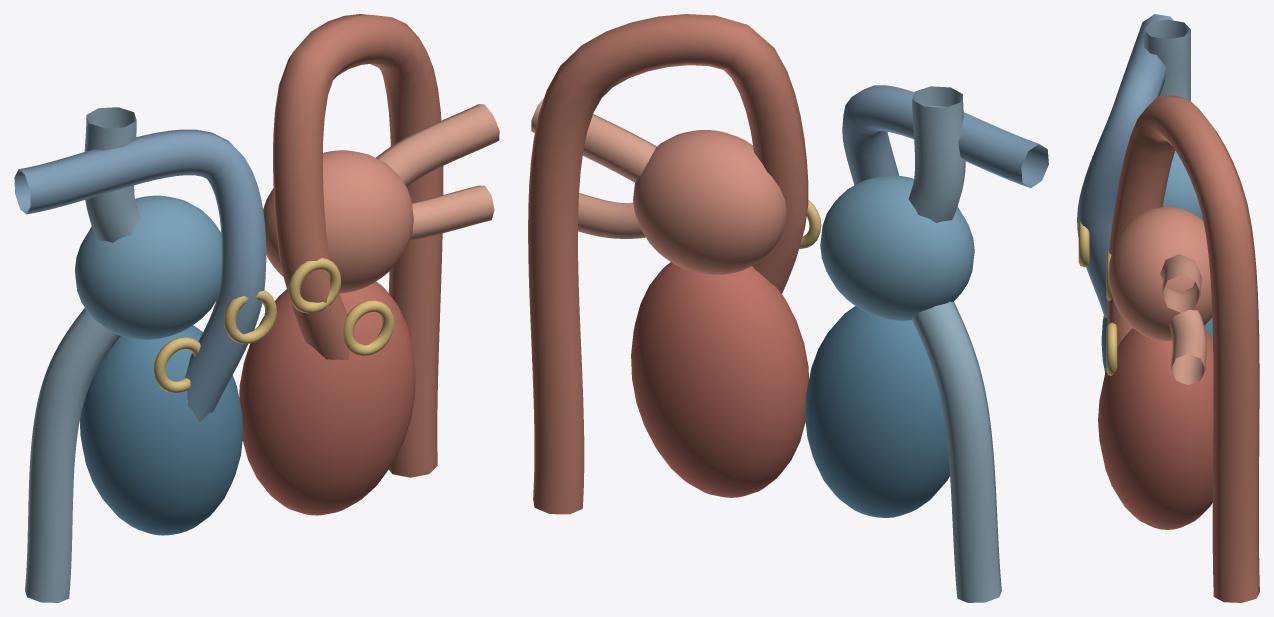
The model's file is heart.glb.
The picture shows the model from 3 angles, left to right: view 1: azimuth 30°, elevation 25°; view 2: azimuth 150°, elevation 25°; view 3: azimuth 270°, elevation 25°; orthographic projection. The views are drawn at different scales.
Parts seen in each view (by area): view 1: aorta-mesh-0, left-ventricle-mesh-0, right-ventricle-mesh-0, pulmonary-artery-mesh-0, right-atrium-mesh-0, vena-cava-mesh-1, left-atrium-mesh-0, pulmonary-veins-mesh-0, vena-cava-mesh-0, pulmonary-veins-mesh-1, valves-mesh-1, valves-mesh-3 (+2 smaller); view 2: aorta-mesh-0, left-ventricle-mesh-0, right-ventricle-mesh-0, left-atrium-mesh-0, right-atrium-mesh-0, vena-cava-mesh-1, pulmonary-artery-mesh-0, vena-cava-mesh-0, pulmonary-veins-mesh-0, pulmonary-veins-mesh-1; view 3: aorta-mesh-0, left-ventricle-mesh-0, left-atrium-mesh-0, pulmonary-artery-mesh-0, vena-cava-mesh-0, pulmonary-veins-mesh-1, pulmonary-veins-mesh-0, right-atrium-mesh-0, valves-mesh-1, valves-mesh-2, right-ventricle-mesh-0.
Boxes of the visible parts, box(x1,y1,x2,y2) form: aorta-mesh-0: box(273, 14, 443, 477); left-ventricle-mesh-0: box(239, 281, 415, 515); right-ventricle-mesh-0: box(80, 325, 243, 535); pulmonary-artery-mesh-0: box(14, 129, 266, 421); right-atrium-mesh-0: box(74, 195, 221, 339); vena-cava-mesh-1: box(25, 308, 120, 602); left-atrium-mesh-0: box(263, 150, 413, 293); pulmonary-veins-mesh-0: box(376, 104, 499, 186); vena-cava-mesh-0: box(84, 107, 140, 242); pulmonary-veins-mesh-1: box(409, 185, 494, 240); valves-mesh-1: box(343, 300, 394, 355); valves-mesh-3: box(288, 258, 341, 313); aorta-mesh-0: box(528, 14, 808, 514); left-ventricle-mesh-0: box(631, 262, 808, 497); right-ventricle-mesh-0: box(805, 306, 949, 517); left-atrium-mesh-0: box(633, 130, 786, 274); right-atrium-mesh-0: box(820, 175, 974, 320); vena-cava-mesh-1: box(911, 301, 1001, 602); pulmonary-artery-mesh-0: box(842, 85, 1048, 188); vena-cava-mesh-0: box(908, 86, 965, 222); pulmonary-veins-mesh-0: box(531, 98, 656, 182); pulmonary-veins-mesh-1: box(578, 193, 645, 238); aorta-mesh-0: box(1107, 95, 1259, 602); left-ventricle-mesh-0: box(1098, 328, 1213, 529); left-atrium-mesh-0: box(1108, 207, 1212, 340); pulmonary-artery-mesh-0: box(1077, 14, 1173, 317); vena-cava-mesh-0: box(1144, 19, 1190, 100); pulmonary-veins-mesh-1: box(1169, 310, 1207, 385); pulmonary-veins-mesh-0: box(1160, 254, 1201, 312); right-atrium-mesh-0: box(1163, 150, 1203, 220); valves-mesh-1: box(1106, 322, 1117, 375); valves-mesh-2: box(1078, 221, 1089, 267); right-ventricle-mesh-0: box(1101, 316, 1212, 372).
Size of the model in its own units: 7.31 by 7.26 by 2.64.
